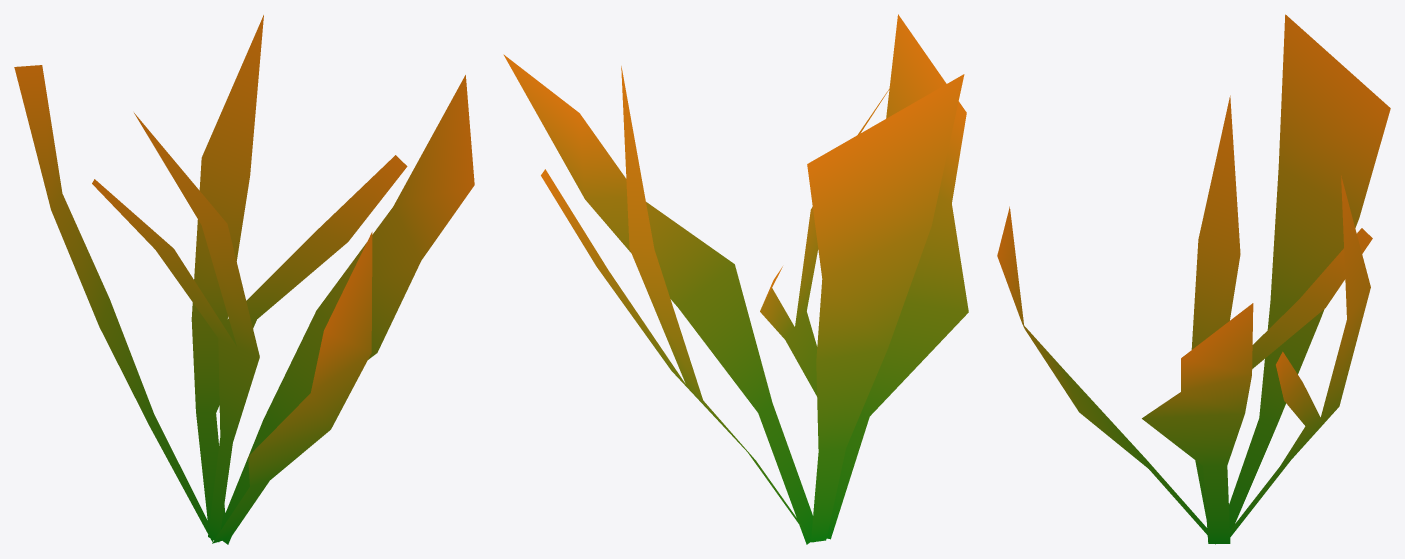
Rendered from Common Eelgrass_LOD2_Var3_sjglk.fbx.
The picture shows the model from 3 angles, left to right: view 1: azimuth 30°, elevation 25°; view 2: azimuth 150°, elevation 25°; view 3: azimuth 270°, elevation 25°; orthographic projection. The views are drawn at different scales.
Parts seen in each view (by area): view 1: _52e6_Var3_LOD2; view 2: _52e6_Var3_LOD2; view 3: _52e6_Var3_LOD2.
Boxes of the visible parts, x1=… form: _52e6_Var3_LOD2: x1=14, y1=15, x2=474, y2=544; _52e6_Var3_LOD2: x1=503, y1=14, x2=968, y2=544; _52e6_Var3_LOD2: x1=997, y1=14, x2=1390, y2=544.
Size of the model in its own units: 50.25 by 54.12 by 42.69.
